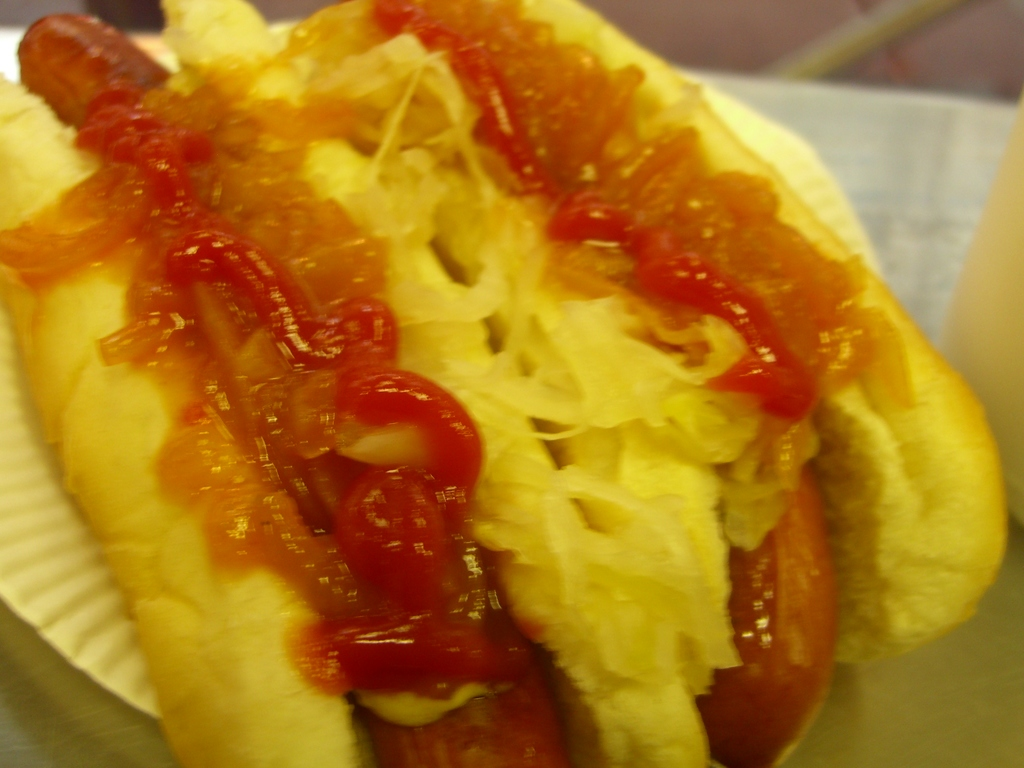hot_dog: (0, 0, 1009, 767)
